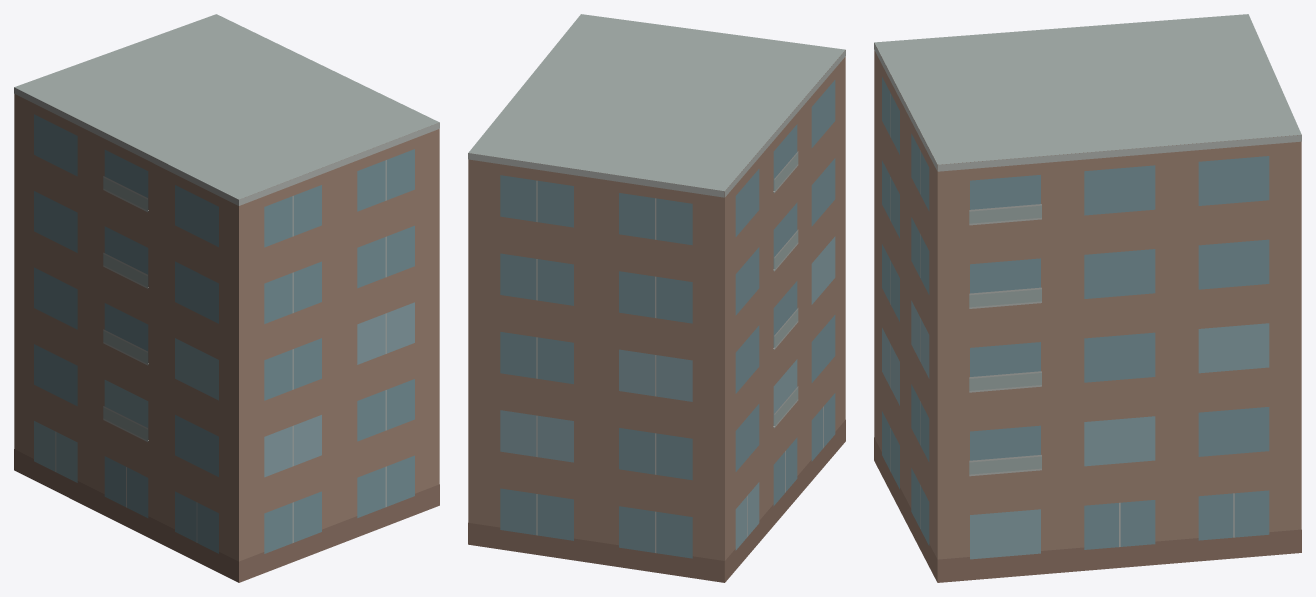
File: survey-upis-32876920.glb
3 views of the same model, side by side, from view 1: azimuth 30°, elevation 25°; view 2: azimuth 150°, elevation 25°; view 3: azimuth 270°, elevation 25° (orthographic). The views are drawn at different scales.
Visible parts, largest first — view 1: survey-upis-32876920.tmp; view 2: survey-upis-32876920.tmp; view 3: survey-upis-32876920.tmp.
Part boxes in pixels (x1=…): survey-upis-32876920.tmp: x1=14, y1=14, x2=439, y2=582; survey-upis-32876920.tmp: x1=468, y1=14, x2=845, y2=582; survey-upis-32876920.tmp: x1=874, y1=14, x2=1301, y2=582.
Bounding box in the file's own units: 11.42 × 14.75 × 13.68.
